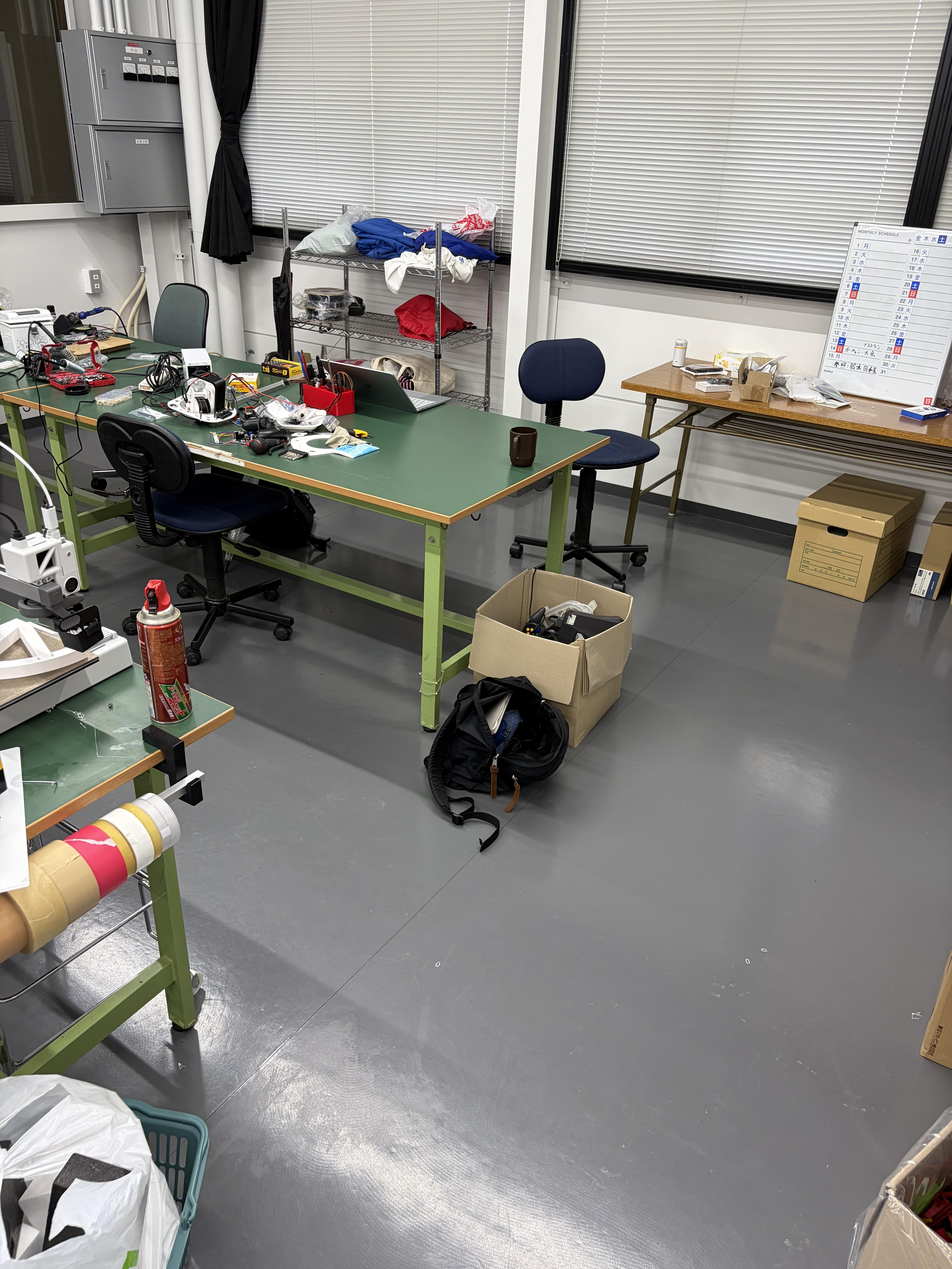mug-real100-3d100: (509, 426, 537, 467)
